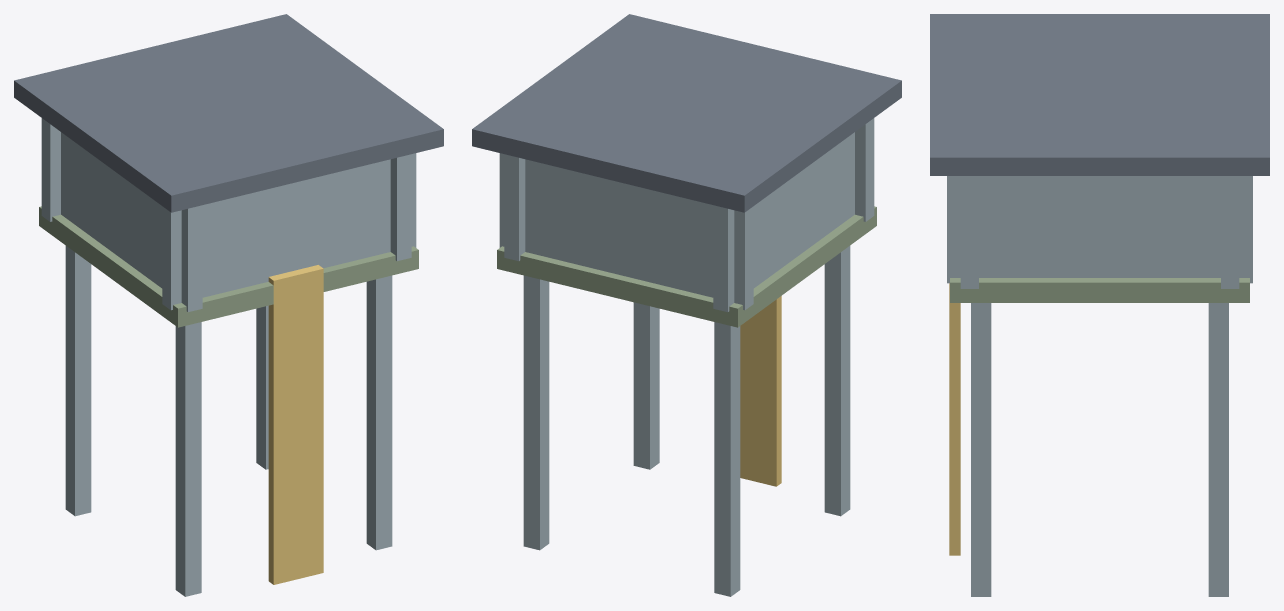
File: guard-tower.glb
3 renders of one model, left to right at view 1: azimuth 30°, elevation 25°; view 2: azimuth 150°, elevation 25°; view 3: azimuth 270°, elevation 25°, orthographic. The views are drawn at different scales.
Parts seen in each view (by area): view 1: Tour de garde modulaire; view 2: Tour de garde modulaire; view 3: Tour de garde modulaire.
Part boxes in pixels (x1=…): Tour de garde modulaire: x1=14, y1=14, x2=443, y2=596; Tour de garde modulaire: x1=472, y1=14, x2=901, y2=596; Tour de garde modulaire: x1=930, y1=14, x2=1269, y2=596.
Size of the model in its own units: 3 by 4.45 by 3.
